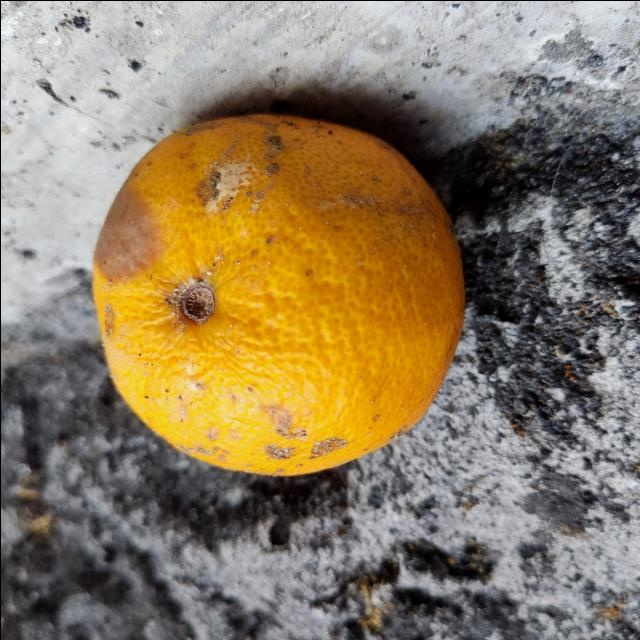agrume: (91, 110, 465, 478)
